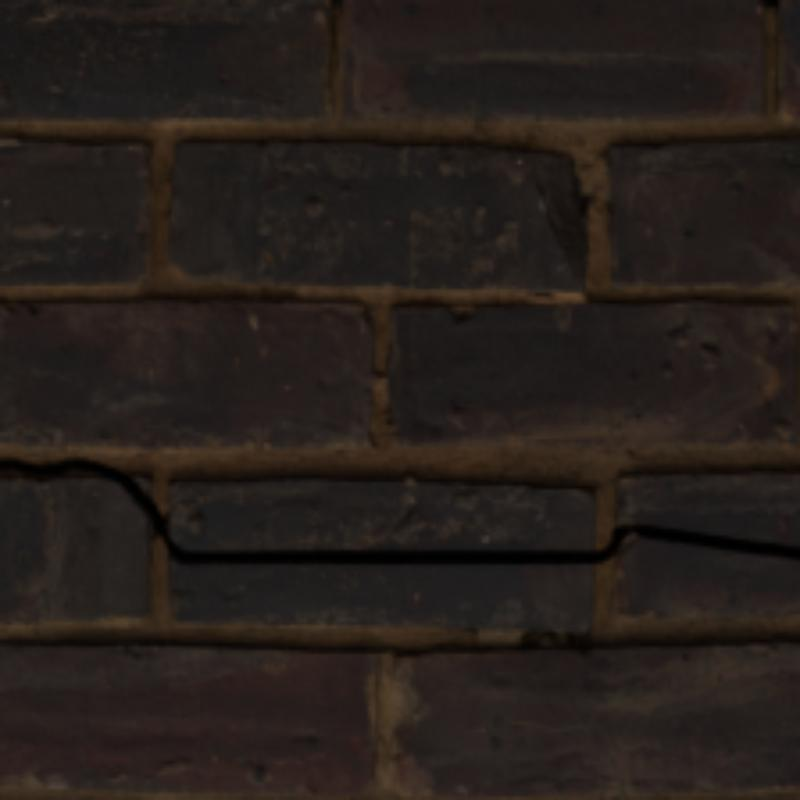pothole: (0, 454, 796, 561)
